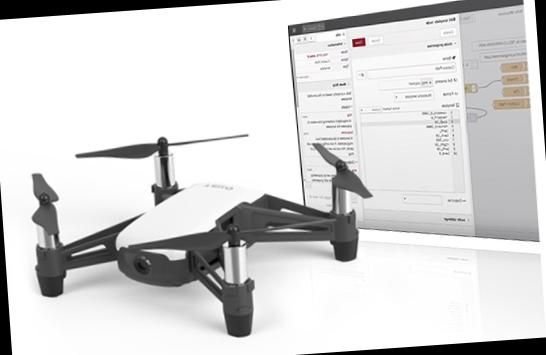drone: (7, 101, 381, 332)
